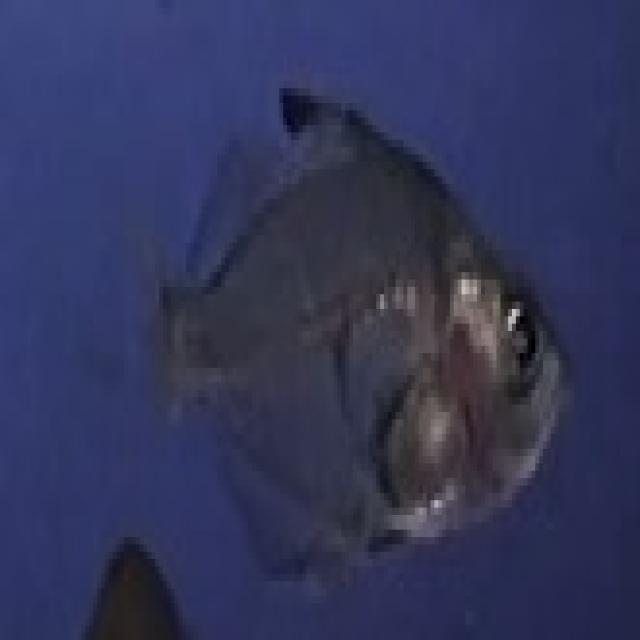Glass-Perchlet: (115, 51, 607, 606)
